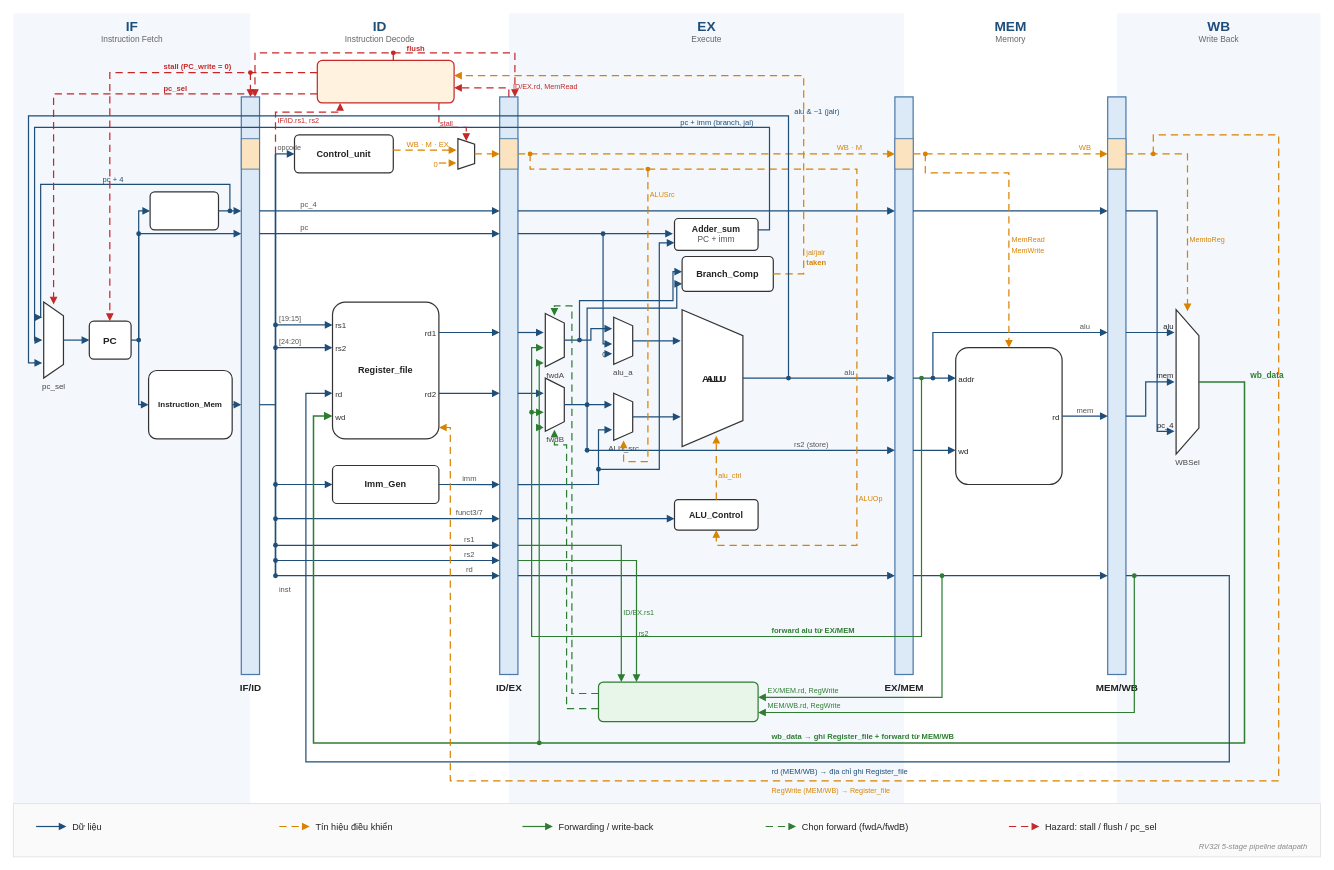
Image size: 1334x870. Some labels were removed from this diagram. Here are the shapes that lost their labels. From the top down, the box of each, then its label:
(316, 59, 454, 103): Hazard_Unit load-use → stall
(149, 191, 219, 230): PC_Adder PC + 4
(955, 347, 1062, 485): Data_memory
(598, 681, 758, 722): Forwarding_Unit → fwdA, fwdB
